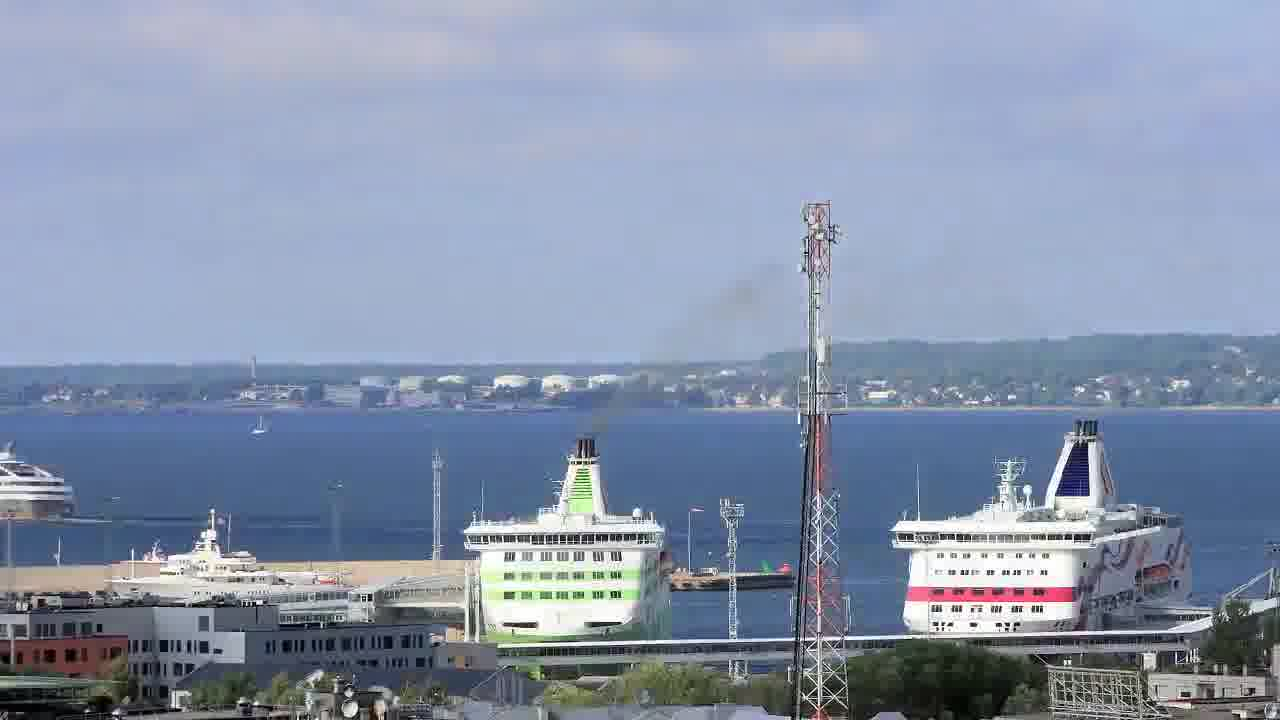type-2: (236, 397, 280, 446)
type-3: (868, 415, 1225, 638), (436, 434, 694, 670), (84, 511, 353, 609), (1, 445, 91, 543)
